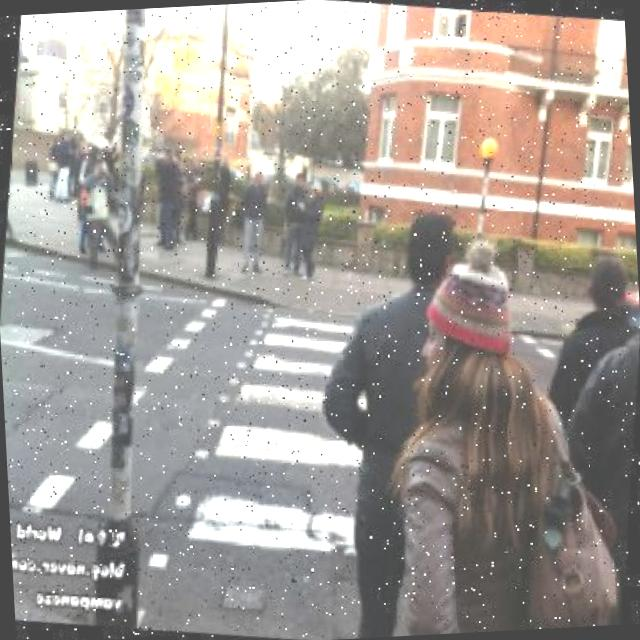Person: (369, 244, 604, 636), (286, 202, 484, 640), (67, 144, 118, 271), (230, 164, 276, 277), (272, 168, 315, 282), (289, 176, 333, 287)
